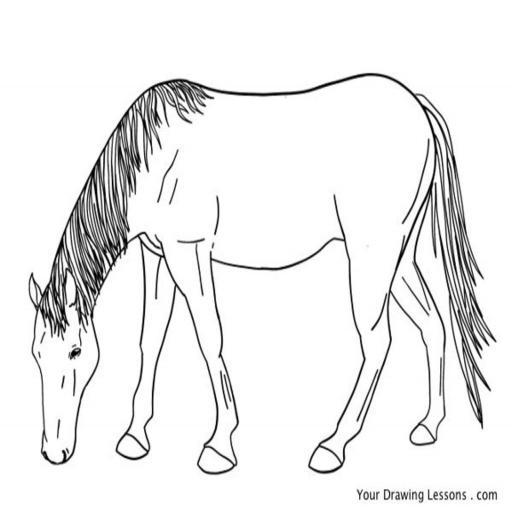Horse: (26, 78, 496, 475)
